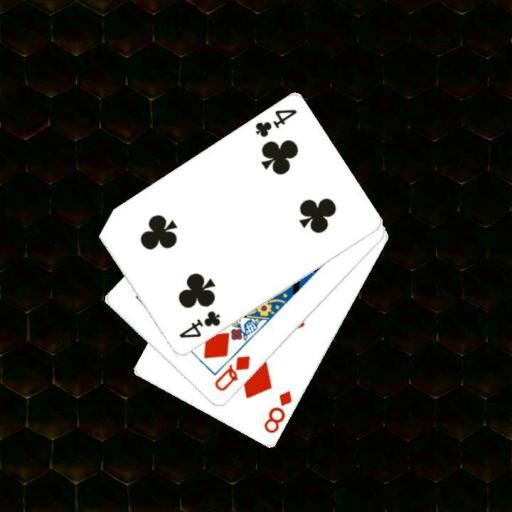4C: (252, 106, 299, 139), (176, 308, 222, 341)
8D: (260, 388, 294, 435)
QD: (211, 353, 252, 393)
